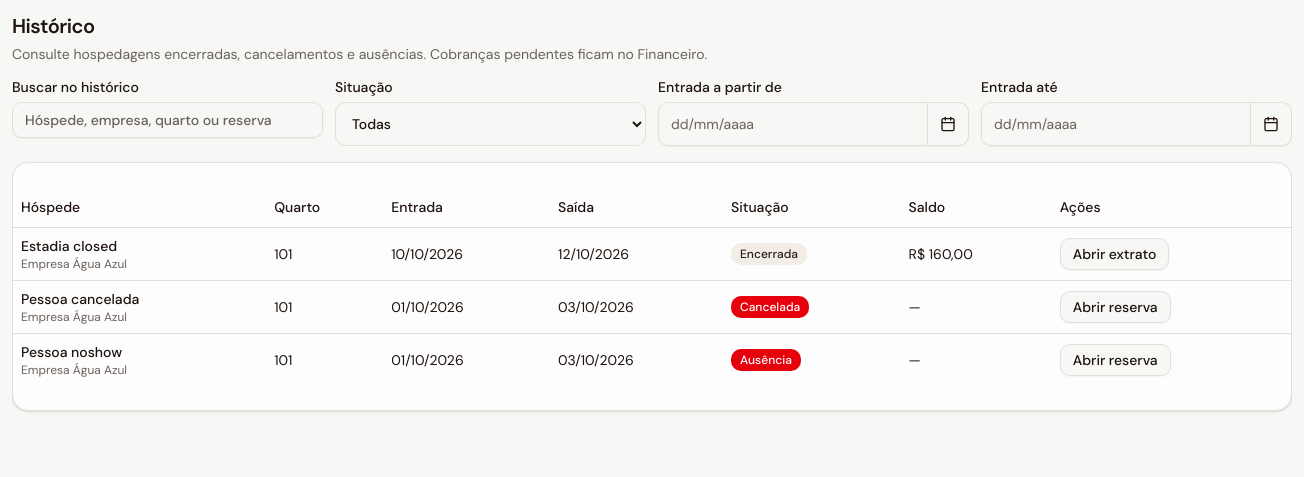
Test: Histórico separado da operação › busca empresa sem acentos e combina situação e período da entrada
Type "agua azul" into the field labelled "Buscar no histórico".
click(168, 120); type("agua azul")  # box x1=12 y1=102 x2=323 y2=138
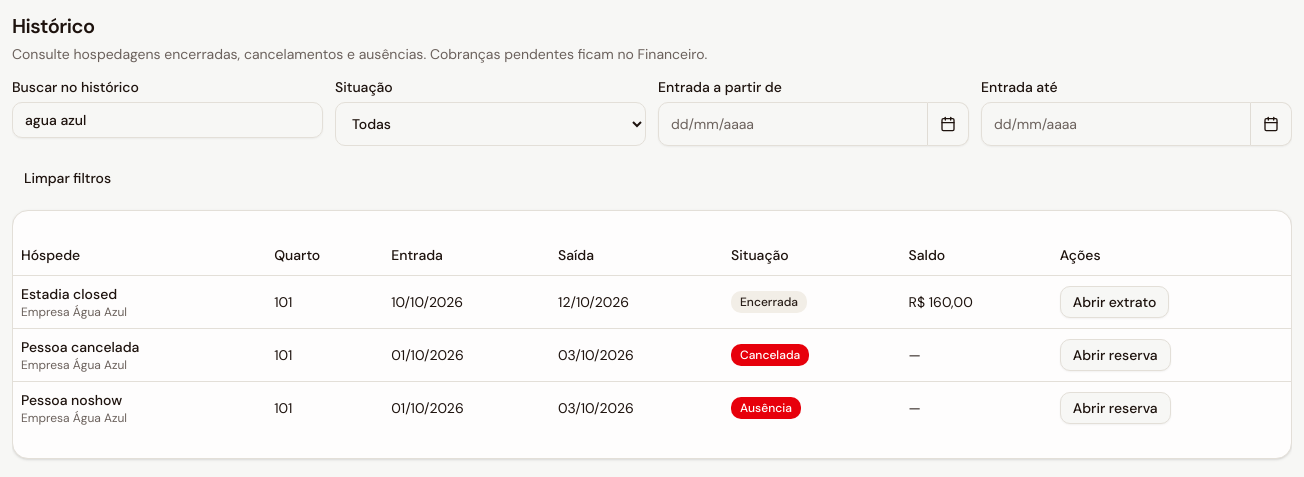
Result: the number of buttons named "Ver detalhes de" is 3 at x1=1060 y1=286 x2=1169 y2=318; x1=1060 y1=338 x2=1171 y2=370; x1=1060 y1=392 x2=1171 y2=424
Type "10/10/2026" into the field labelled "Entrada a partir de".
click(793, 124); type("10/10/2026")  # box x1=658 y1=102 x2=928 y2=146
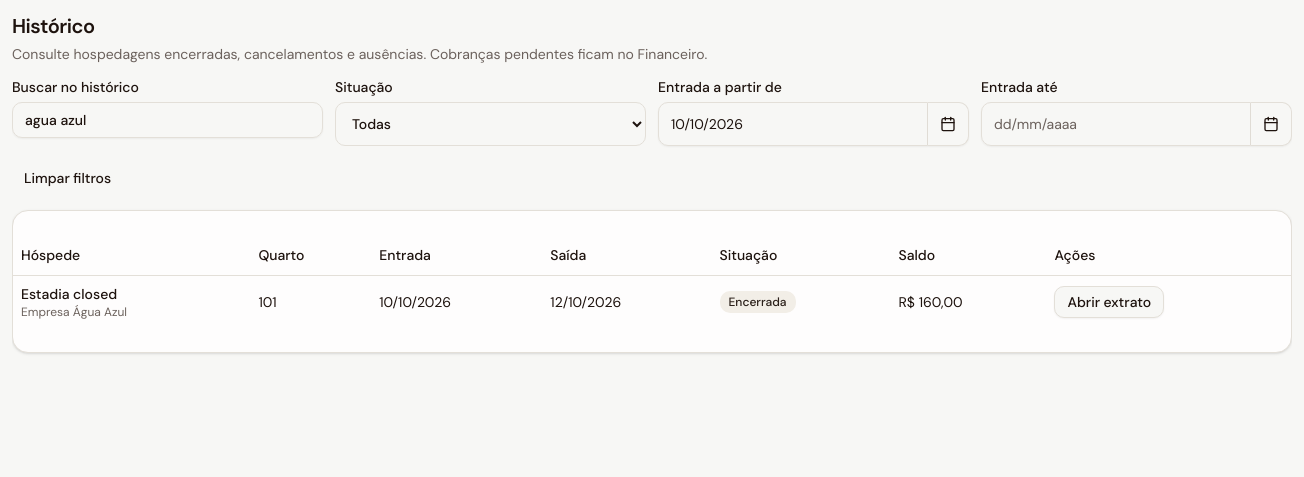
Result: the number of buttons named "Ver detalhes de" is 1 at x1=1054 y1=286 x2=1164 y2=318
Select "Canceladas" in the dropdown labelled "Situação" at point(490, 124), box x1=335 y1=102 x2=646 y2=146
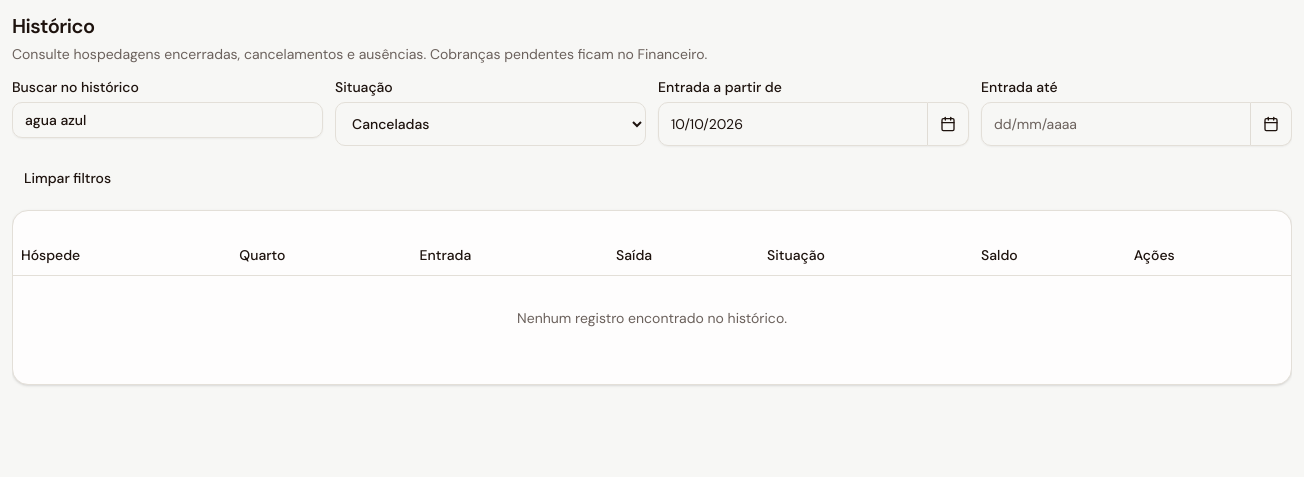
Result: the text "Nenhum registro encontrado no histórico." is shown at x1=13 y1=275 x2=1291 y2=360
Click the button "Limpar filtros".
click(68, 178)  # box x1=12 y1=162 x2=123 y2=194
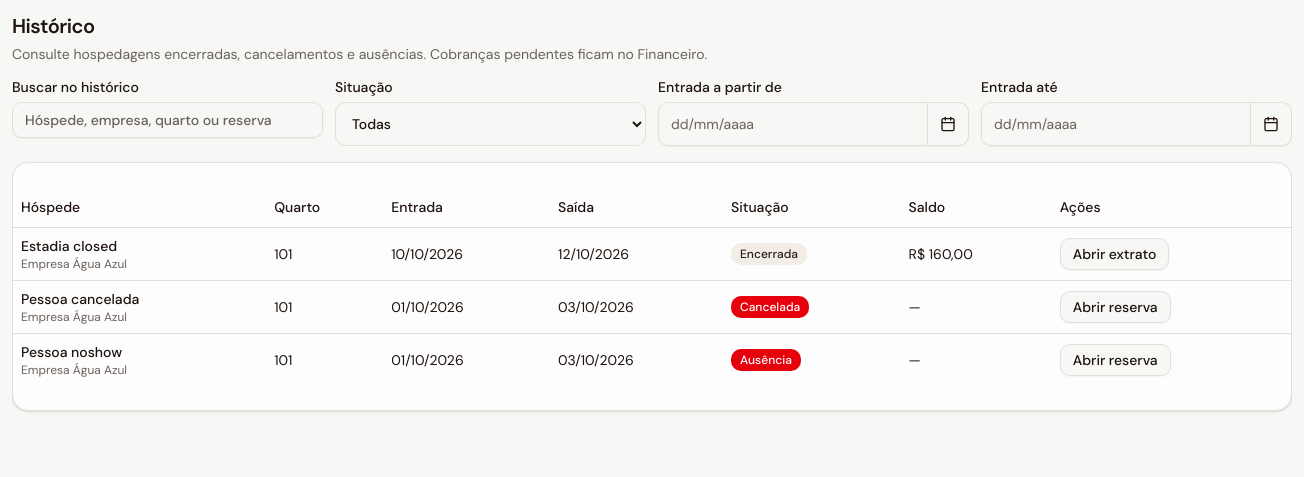
Result: the number of buttons named "Ver detalhes de" is 3 at x1=1060 y1=238 x2=1169 y2=270; x1=1060 y1=290 x2=1171 y2=322; x1=1060 y1=344 x2=1171 y2=376
